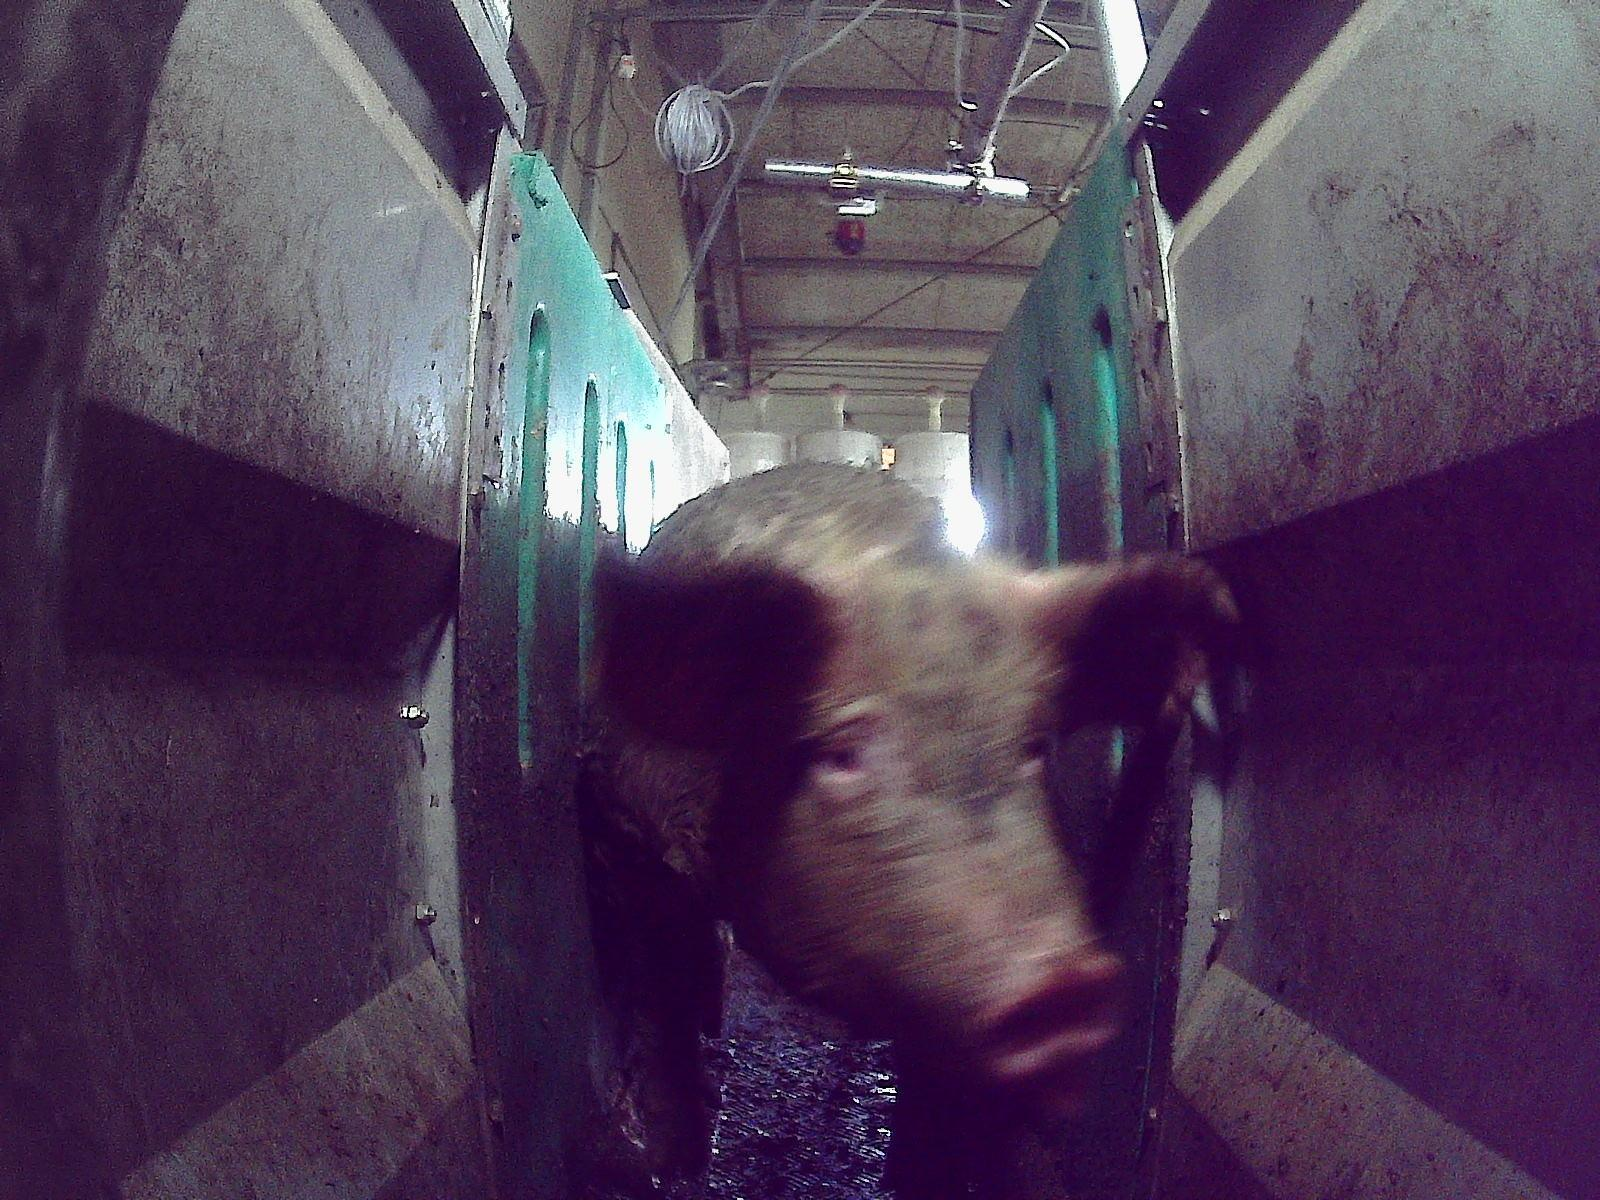Face: (711, 578, 1131, 1125)
